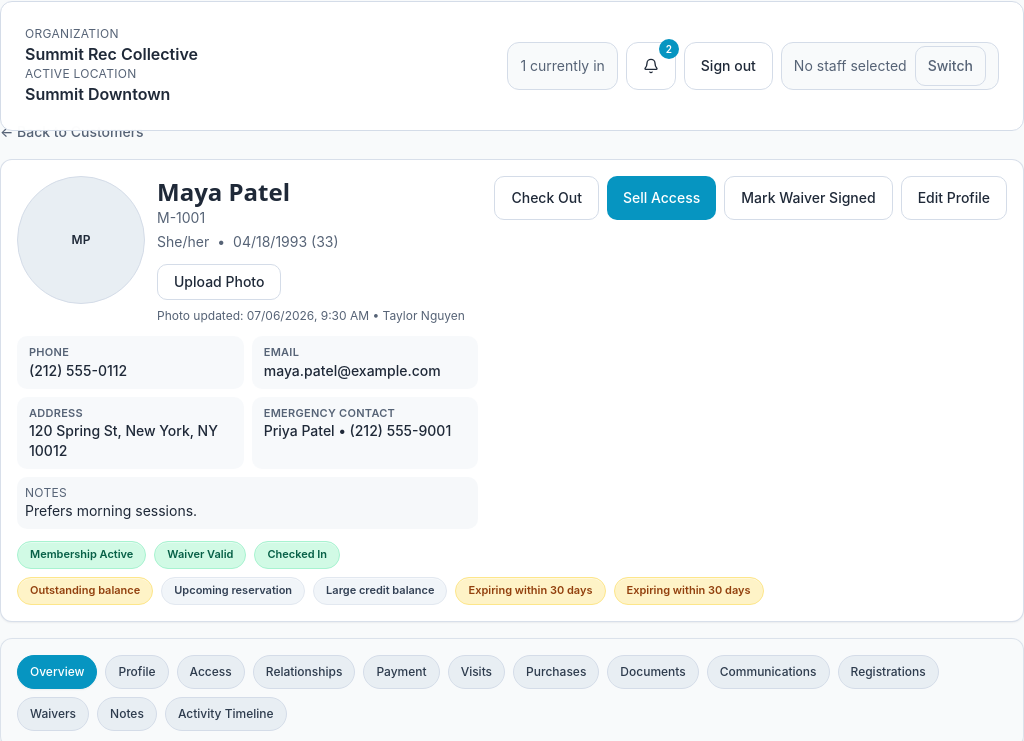
Scenario: CustomerDetailPage › communications section renders history and supports logging entries
Click the button "Switch": (950, 66) [915,46,986,86]
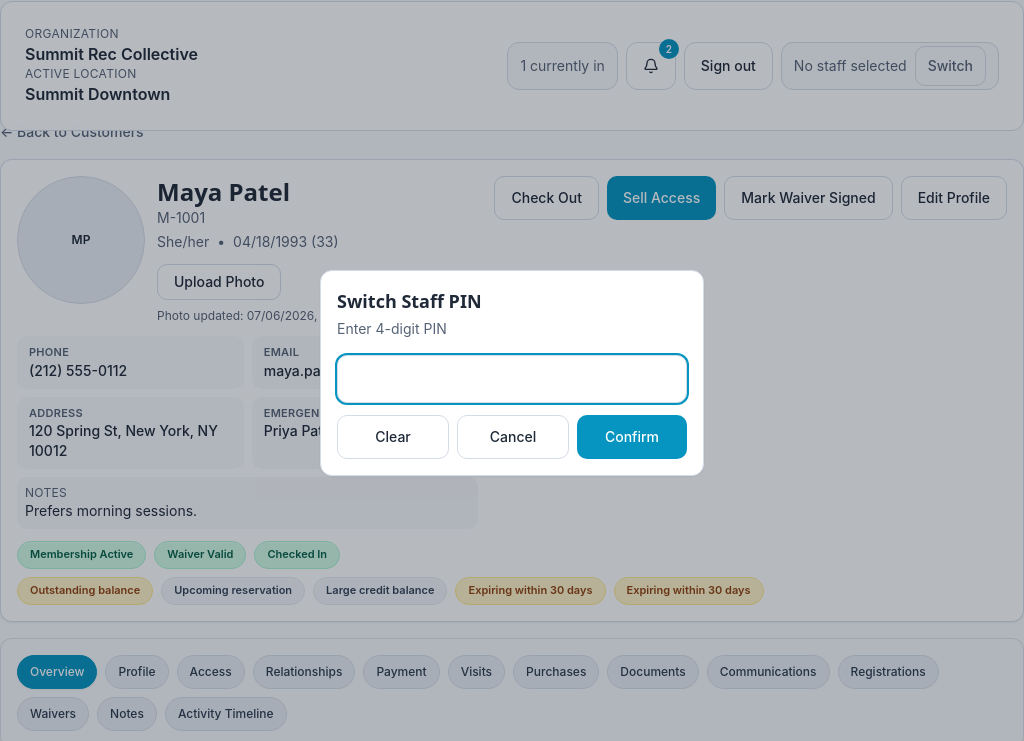
In the password field named "Staff PIN input": (512, 379) [337,355,687,403], type "2222"
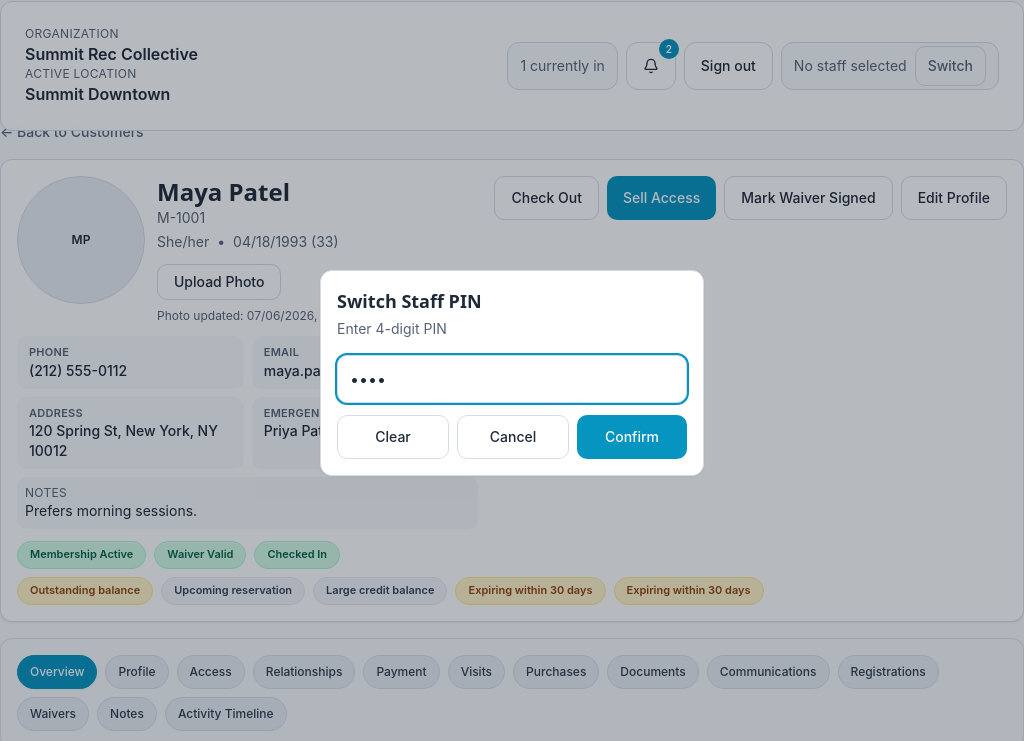
Click the button "Confirm": (632, 437) [577,415,687,459]
(page scrolled)
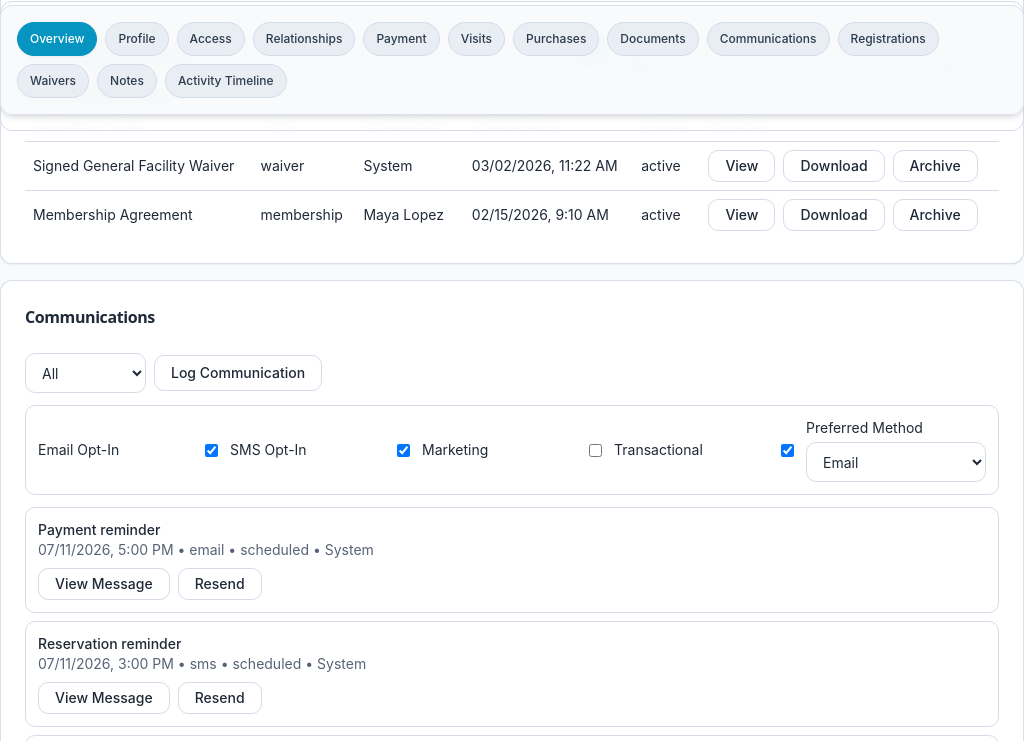
Click the button "Log Communication": (238, 373) [154,355,322,391]
(page scrolled)
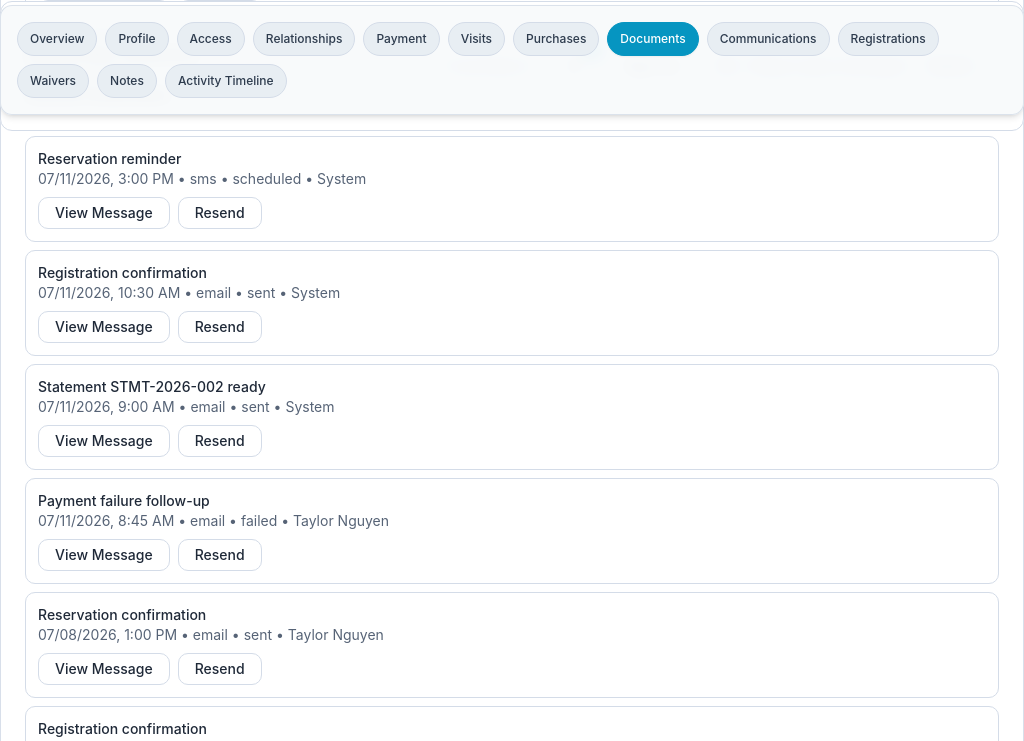
expect the element named "detail-communications" shows "Manual communication log": met, box [38,36,218,53]
